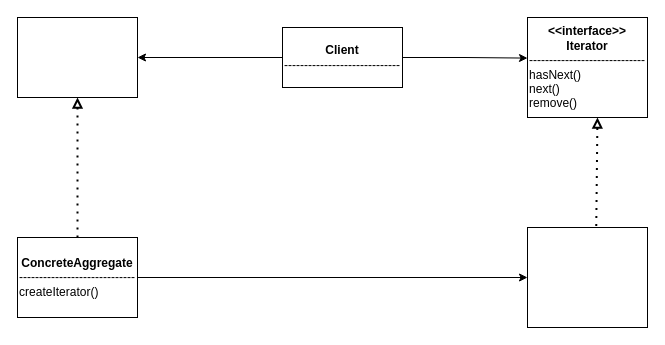
This 665x345 diagram has some shape labels left out. The centre of each missing label's shape, as x and y in pixels:
<<interface>> Aggregate ----------------------------- createIterator(): the point at 77,57
ConcreteIterator ----------------------------- hasNext() next() remove(): the point at 587,277
